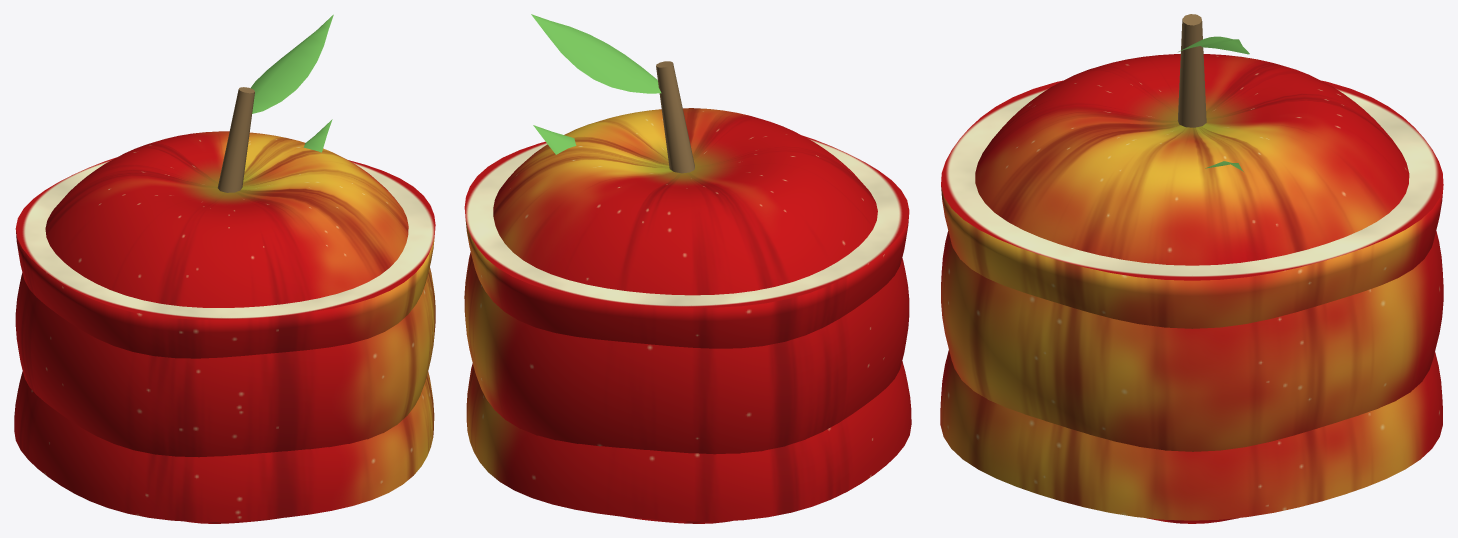
File: apple.glb
3 views of the same model, side by side, from view 1: azimuth 30°, elevation 25°; view 2: azimuth 150°, elevation 25°; view 3: azimuth 270°, elevation 25° (orthographic). The views are drawn at different scales.
Visible parts, largest first — view 1: whole, top, bot; view 2: whole, top, bot; view 3: whole, bot, top.
Boxes of the visible parts, x1,y1,x2,y2 form: whole: (15, 14, 435, 523); top: (14, 119, 434, 521); bot: (15, 157, 435, 358); whole: (464, 14, 909, 523); top: (466, 125, 911, 521); bot: (464, 135, 909, 348); whole: (941, 14, 1443, 523); bot: (941, 80, 1443, 328); top: (940, 161, 1442, 520).
Size of the model in its own units: 0.6032 by 0.6766 by 0.6024.
Materials: 4 (2 with a texture image).
